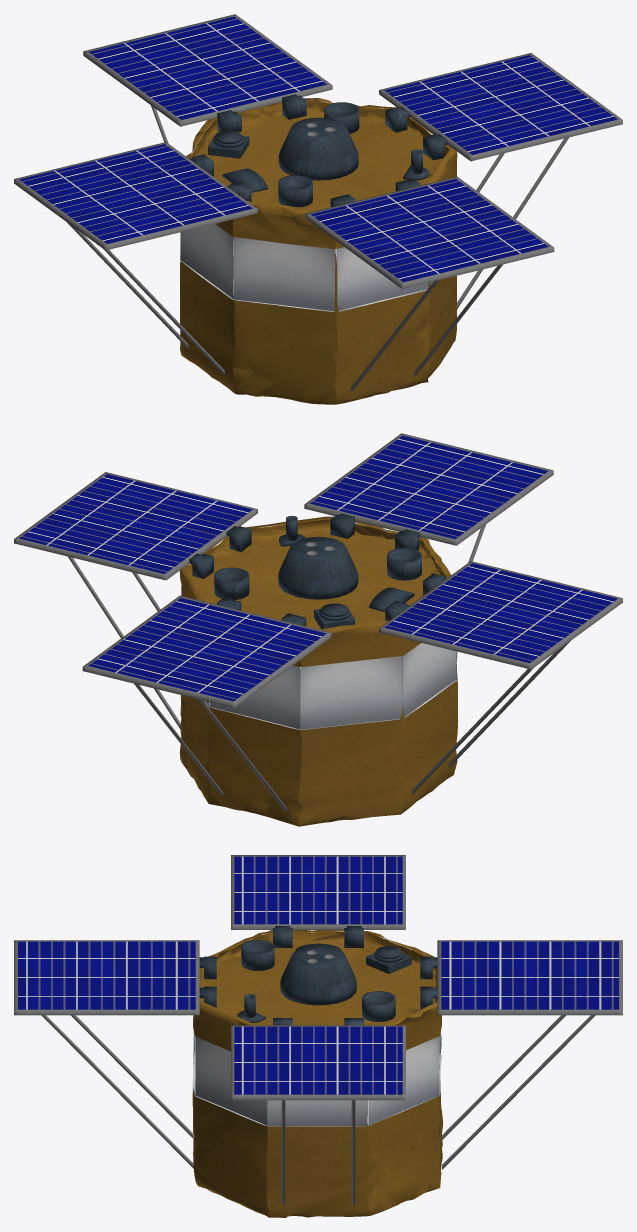
File: satellite_SAR.gltf
3 views of the same model, one above another, from view 1: azimuth 30°, elevation 25°; view 2: azimuth 150°, elevation 25°; view 3: azimuth 270°, elevation 25° (orthographic). The views are drawn at different scales.
Parts seen in each view (by area): view 1: Acrimsat_vFINAL__Layer2_, Acrimsat_vFINAL__Layer1_, Acrimsat_vFINAL__Layer3_, Acrimsat_vFINAL__Layer8_, Acrimsat_vFINAL__Layer4_, Acrimsat_vFINAL__Layer7_, Acrimsat_vFINAL__Layer5_, Acrimsat_vFINAL__Layer6_; view 2: Acrimsat_vFINAL__Layer2_, Acrimsat_vFINAL__Layer1_, Acrimsat_vFINAL__Layer3_, Acrimsat_vFINAL__Layer8_, Acrimsat_vFINAL__Layer4_, Acrimsat_vFINAL__Layer7_, Acrimsat_vFINAL__Layer5_, Acrimsat_vFINAL__Layer6_; view 3: Acrimsat_vFINAL__Layer2_, Acrimsat_vFINAL__Layer1_, Acrimsat_vFINAL__Layer8_, Acrimsat_vFINAL__Layer3_, Acrimsat_vFINAL__Layer4_, Acrimsat_vFINAL__Layer7_, Acrimsat_vFINAL__Layer5_, Acrimsat_vFINAL__Layer6_.
Boxes of the visible parts, x1,y1,x2,y2 form: Acrimsat_vFINAL__Layer2_: (19, 16, 617, 282); Acrimsat_vFINAL__Layer1_: (180, 98, 457, 404); Acrimsat_vFINAL__Layer3_: (180, 224, 433, 311); Acrimsat_vFINAL__Layer8_: (14, 14, 622, 288); Acrimsat_vFINAL__Layer4_: (189, 94, 447, 206); Acrimsat_vFINAL__Layer7_: (67, 105, 568, 391); Acrimsat_vFINAL__Layer5_: (278, 102, 359, 207); Acrimsat_vFINAL__Layer6_: (208, 130, 429, 180); Acrimsat_vFINAL__Layer2_: (19, 435, 617, 701); Acrimsat_vFINAL__Layer1_: (179, 516, 458, 826); Acrimsat_vFINAL__Layer3_: (205, 643, 457, 729); Acrimsat_vFINAL__Layer8_: (14, 433, 622, 707); Acrimsat_vFINAL__Layer4_: (189, 513, 446, 626); Acrimsat_vFINAL__Layer7_: (68, 524, 570, 811); Acrimsat_vFINAL__Layer5_: (214, 548, 421, 599); Acrimsat_vFINAL__Layer6_: (279, 516, 355, 629); Acrimsat_vFINAL__Layer2_: (18, 856, 618, 1094); Acrimsat_vFINAL__Layer1_: (192, 930, 443, 1217); Acrimsat_vFINAL__Layer8_: (14, 855, 622, 1100); Acrimsat_vFINAL__Layer3_: (192, 1031, 441, 1126); Acrimsat_vFINAL__Layer4_: (199, 926, 437, 1025); Acrimsat_vFINAL__Layer7_: (41, 1015, 595, 1204); Acrimsat_vFINAL__Layer5_: (241, 940, 395, 1021); Acrimsat_vFINAL__Layer6_: (237, 946, 411, 1022).
Size of the model in its own units: 5.41 by 2.21 by 5.78.
Materials: 9 (6 with a texture image).
